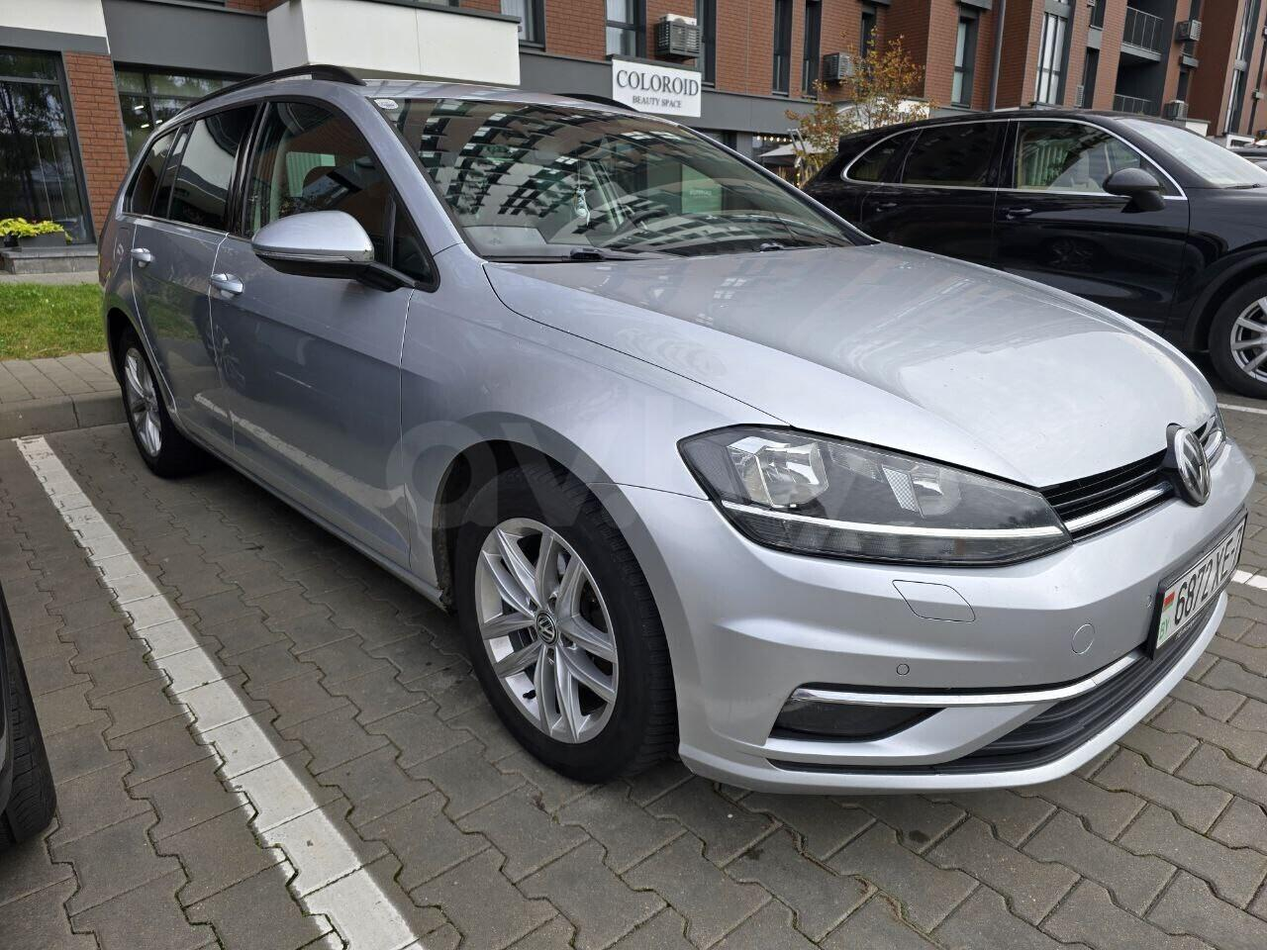Golf_2017-2021: (86, 63, 1259, 802)
